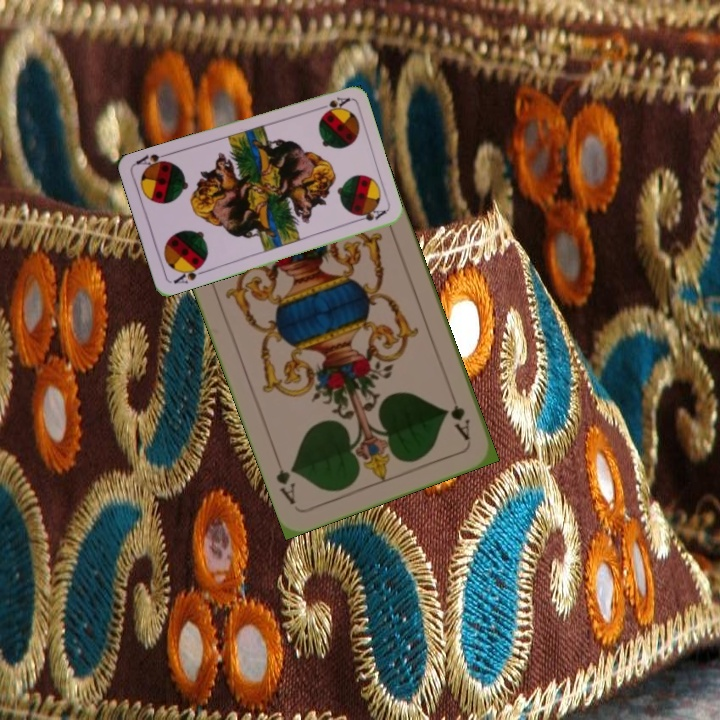GA: (443, 387, 473, 443)
SA: (169, 260, 208, 286), (312, 92, 352, 116)
